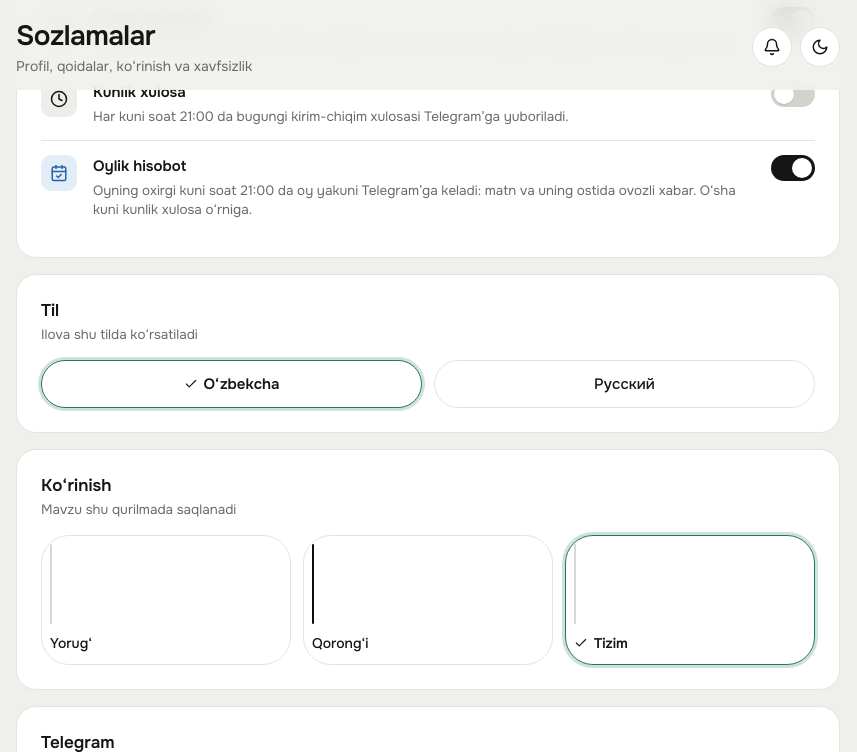
Test: SettingsPage › switches the language on this device and keeps it on the account
(page scrolled)
Click the radio button labelled "Русский". click: click(624, 384)
box: [434, 360, 815, 408]
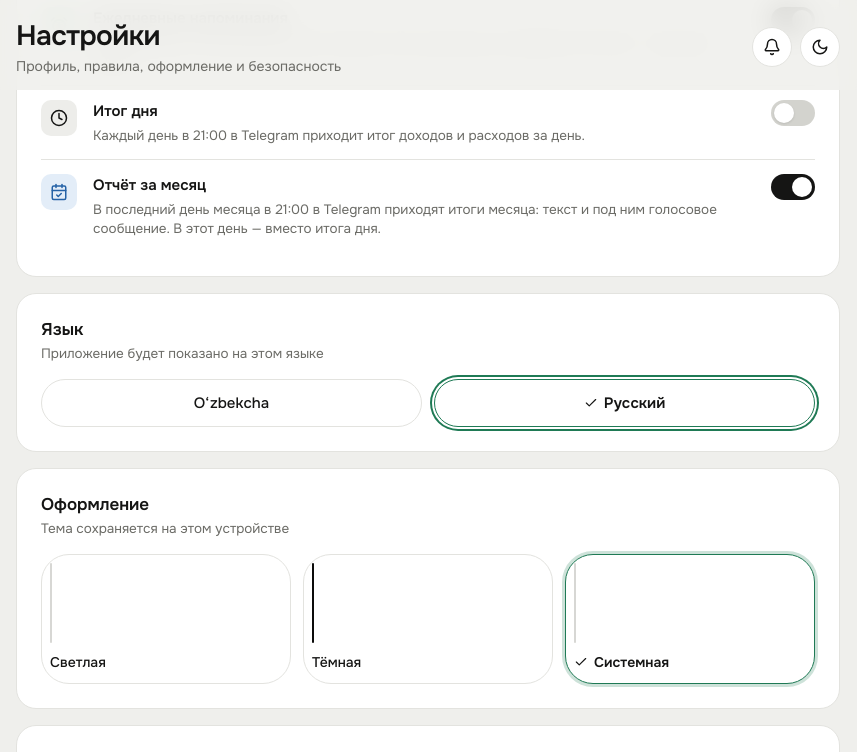
expect the element named "Язык" is shown: met, box [41, 379, 815, 427]
